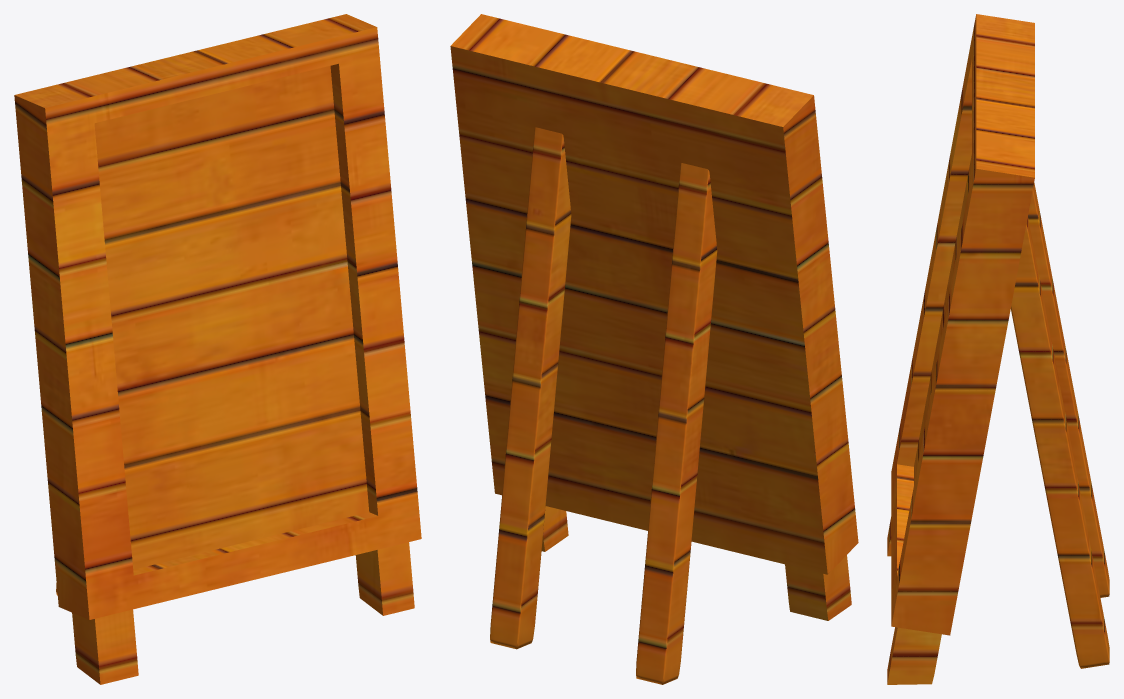
File: panneau.fbx
The picture shows the model from 3 angles, left to right: view 1: azimuth 30°, elevation 25°; view 2: azimuth 150°, elevation 25°; view 3: azimuth 270°, elevation 25°; orthographic projection. The views are drawn at different scales.
Parts seen in each view (by area): view 1: Panneau1; view 2: Panneau1; view 3: Panneau1.
Boxes of the visible parts, <box> form: Panneau1: <box>14,14,421,684</box>; Panneau1: <box>450,14,858,684</box>; Panneau1: <box>887,14,1109,684</box>.
Bounding box in the file's own units: 13.84 × 22.39 × 8.41.
Materials: 1 (1 with a texture image).
